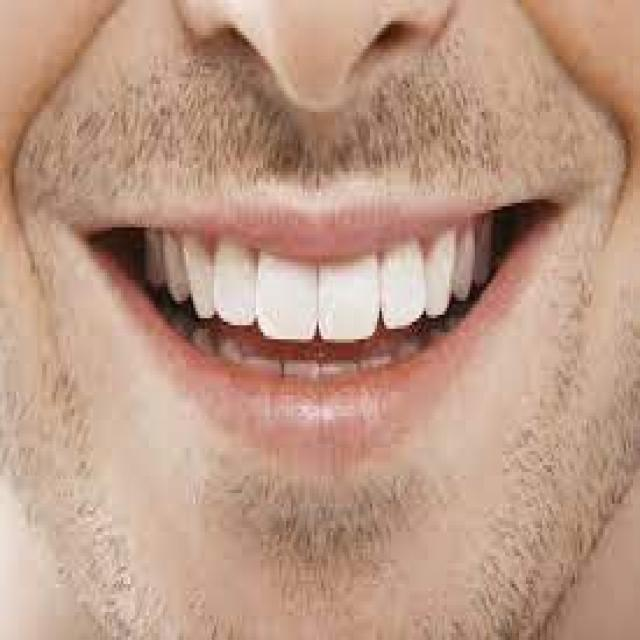tooth: (256, 252, 319, 339), (321, 256, 377, 340), (382, 241, 424, 329), (216, 238, 256, 325), (182, 231, 214, 318), (431, 231, 449, 315), (163, 231, 181, 301), (144, 228, 163, 290), (474, 224, 488, 280), (458, 228, 468, 298)
